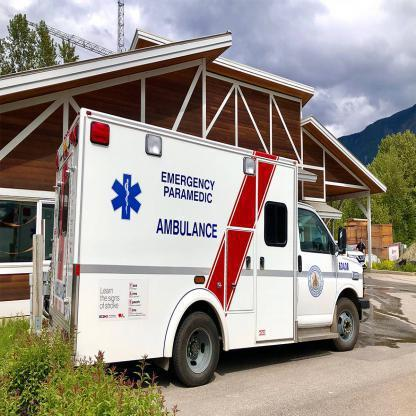ambulance_off: (46, 109, 365, 387)
